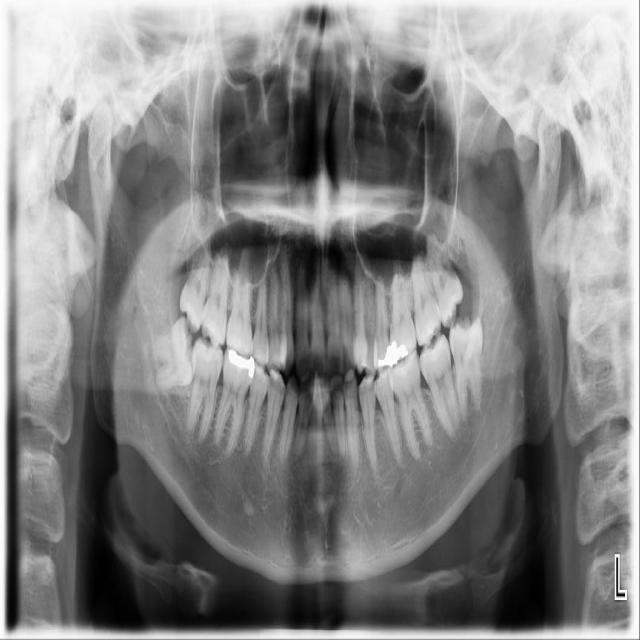Filling: (228, 348, 255, 380), (372, 343, 400, 370), (391, 338, 414, 363)
impacted tooth: (151, 315, 199, 394), (451, 318, 484, 423)
